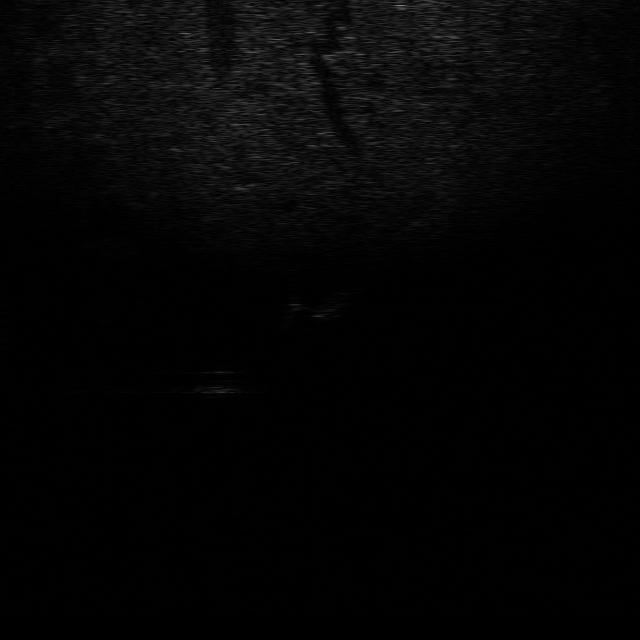ball: (189, 367, 251, 397)
human body: (280, 279, 366, 326)
